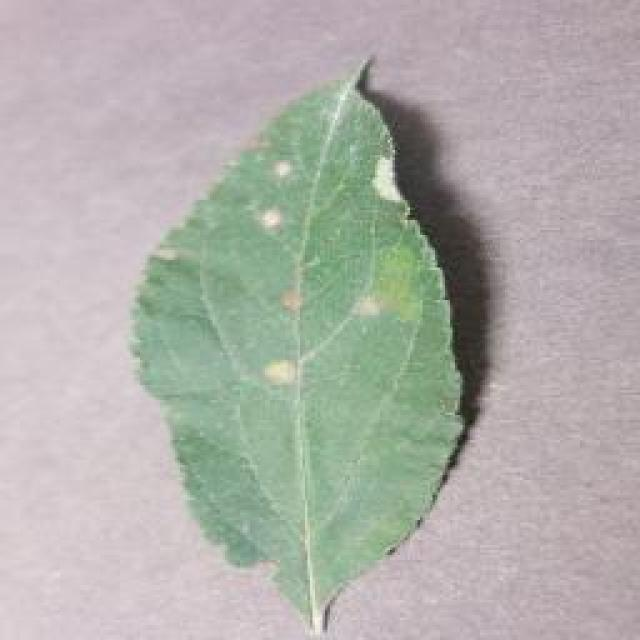apple rust disease: (125, 52, 497, 638)
